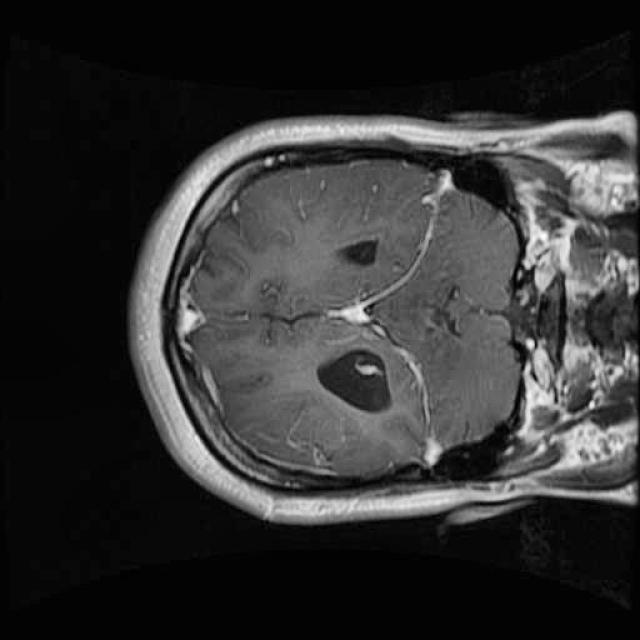Tumor: (292, 335, 409, 424)
